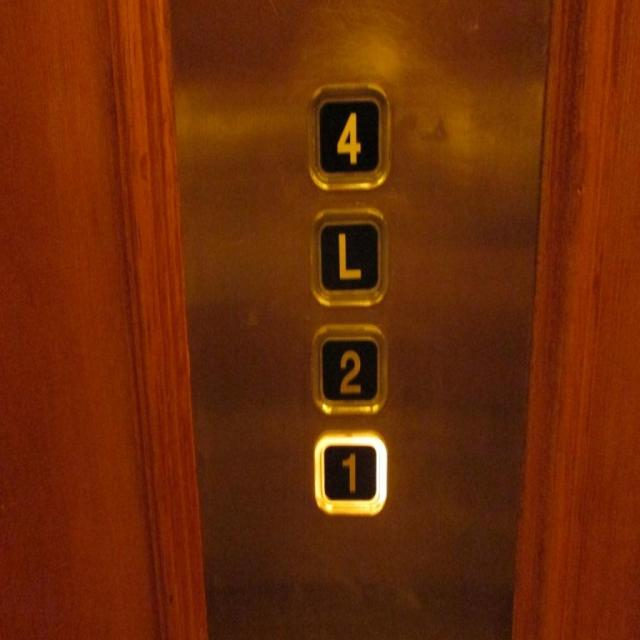1: (312, 429, 388, 519)
2: (309, 320, 389, 416)
4: (307, 80, 392, 192)
L: (310, 205, 390, 307)
